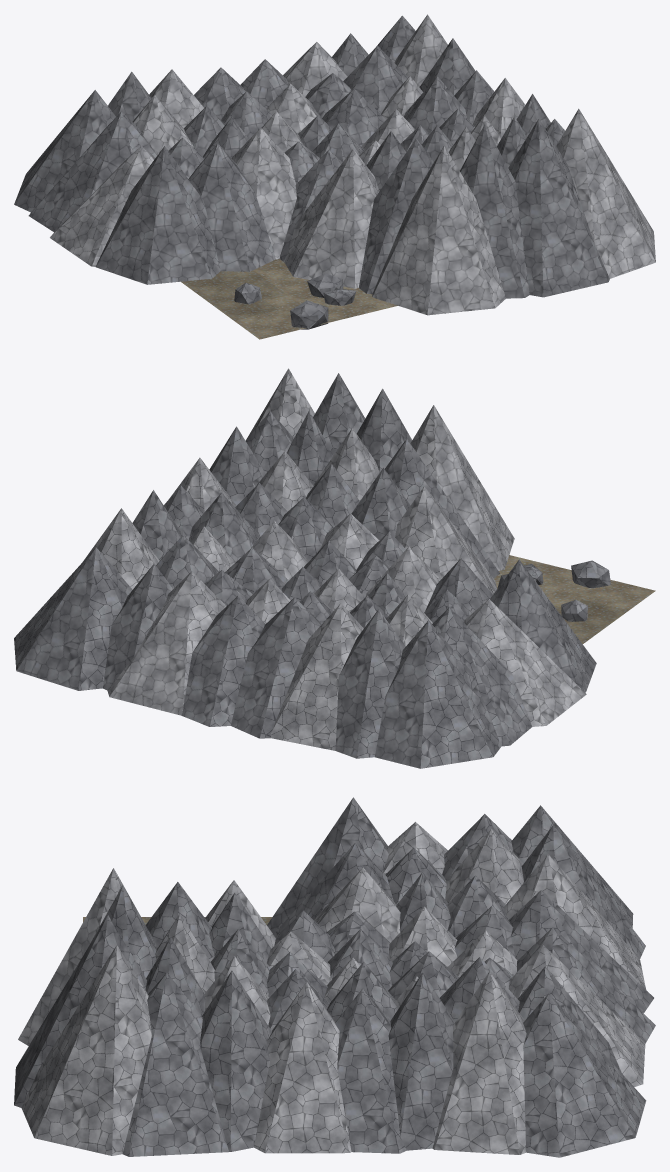
Rendered from chunk_10_19.glb.
3 renders of one model, top to bottom at view 1: azimuth 30°, elevation 25°; view 2: azimuth 150°, elevation 25°; view 3: azimuth 270°, elevation 25°, orthographic. The views are drawn at different scales.
Parts seen in each view (by area): view 1: chunk_10_19; view 2: chunk_10_19; view 3: chunk_10_19.
Boxes of the visible parts, x1=… form: chunk_10_19: x1=14, y1=14, x2=655, y2=339; chunk_10_19: x1=14, y1=368, x2=655, y2=768; chunk_10_19: x1=14, y1=797, x2=655, y2=1157.
Bounding box in the file's own units: 20.89 × 6.65 × 20.81.
Materials: 4 (4 with a texture image).
